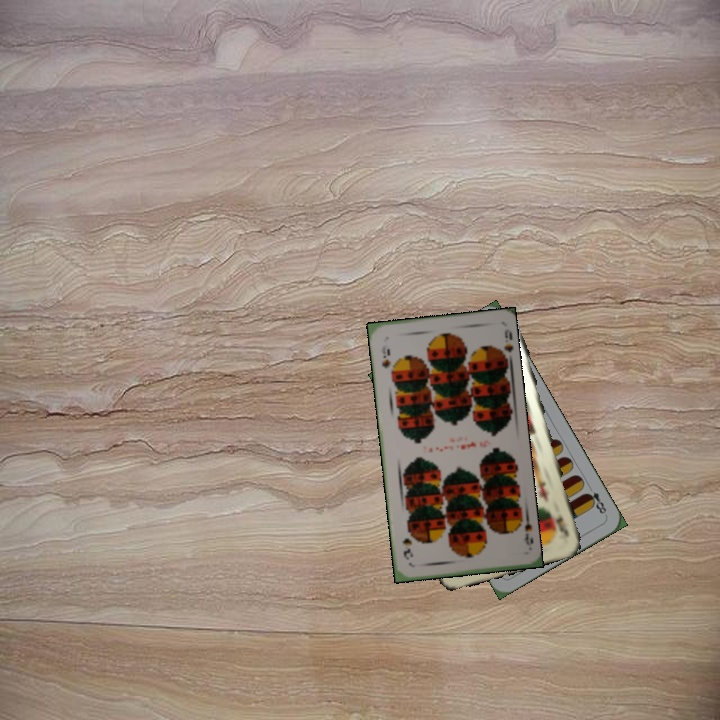E8: (581, 481, 609, 519)
S9: (513, 511, 536, 551), (376, 343, 393, 371)
SK: (551, 510, 571, 539)
